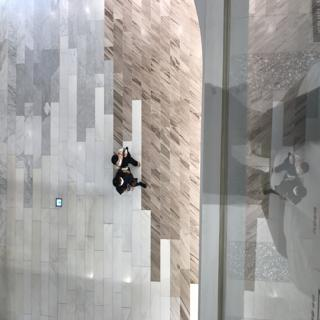person: (105, 171, 152, 200), (105, 148, 147, 167)
